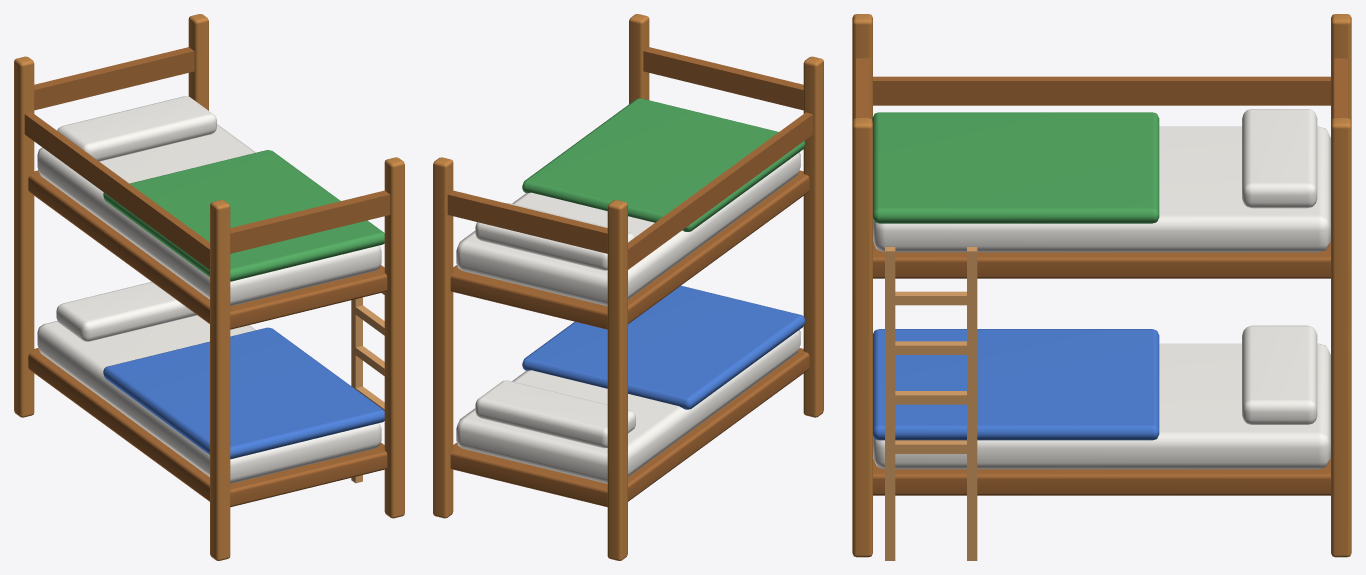
The model's file is BunkBed.fbx.
The picture shows the model from 3 angles, left to right: view 1: azimuth 30°, elevation 25°; view 2: azimuth 150°, elevation 25°; view 3: azimuth 270°, elevation 25°; orthographic projection. The views are drawn at different scales.
Parts seen in each view (by area): view 1: BunkBed; view 2: BunkBed; view 3: BunkBed.
Boxes of the visible parts, x1,y1,x2,y2 form: BunkBed: [14, 14, 404, 560]; BunkBed: [433, 14, 823, 560]; BunkBed: [852, 14, 1351, 560].
Size of the model in its own units: 3.97 by 7 by 7.3.
Materials: 1 (1 with a texture image).
